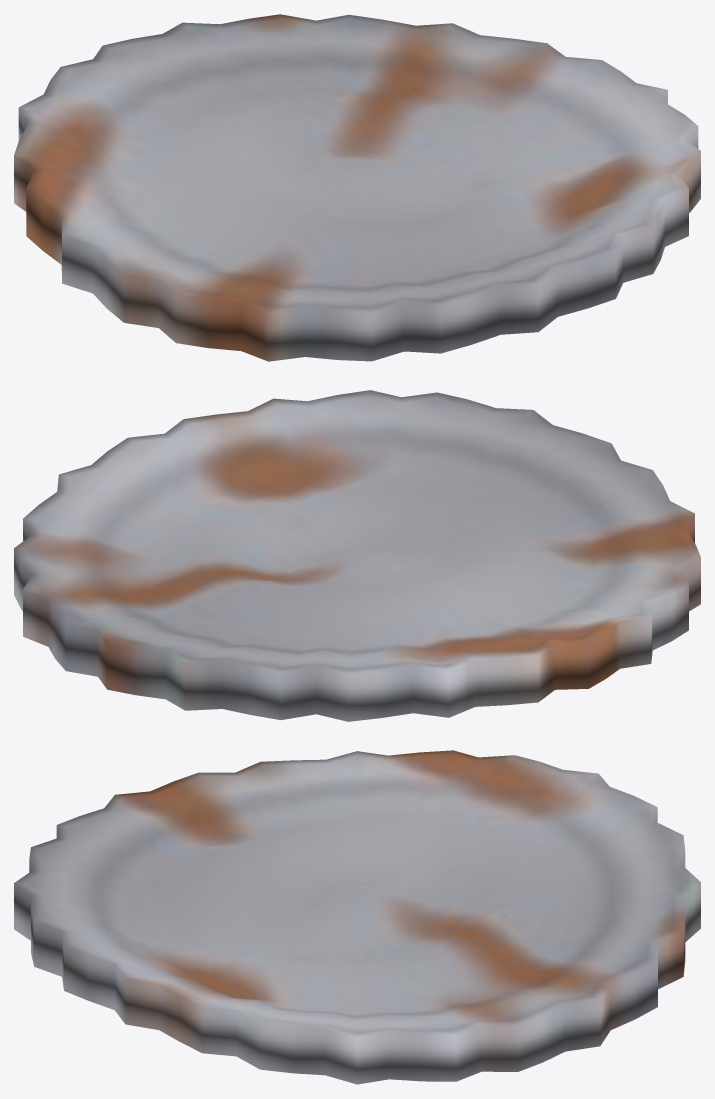
The model's file is gundu_tin.glb.
3 views of the same model, one above another, from view 1: azimuth 30°, elevation 25°; view 2: azimuth 150°, elevation 25°; view 3: azimuth 270°, elevation 25° (orthographic). The views are drawn at different scales.
Visible parts, largest first — view 1: b_gundu_tin; view 2: b_gundu_tin; view 3: b_gundu_tin.
Boxes of the visible parts, x1,y1,x2,y2 form: b_gundu_tin: (14,14,700,361); b_gundu_tin: (14,390,700,721); b_gundu_tin: (14,750,700,1084).
Size of the model in its own units: 0.0595 by 0.00902 by 0.0605.
Materials: 1 (1 with a texture image).
